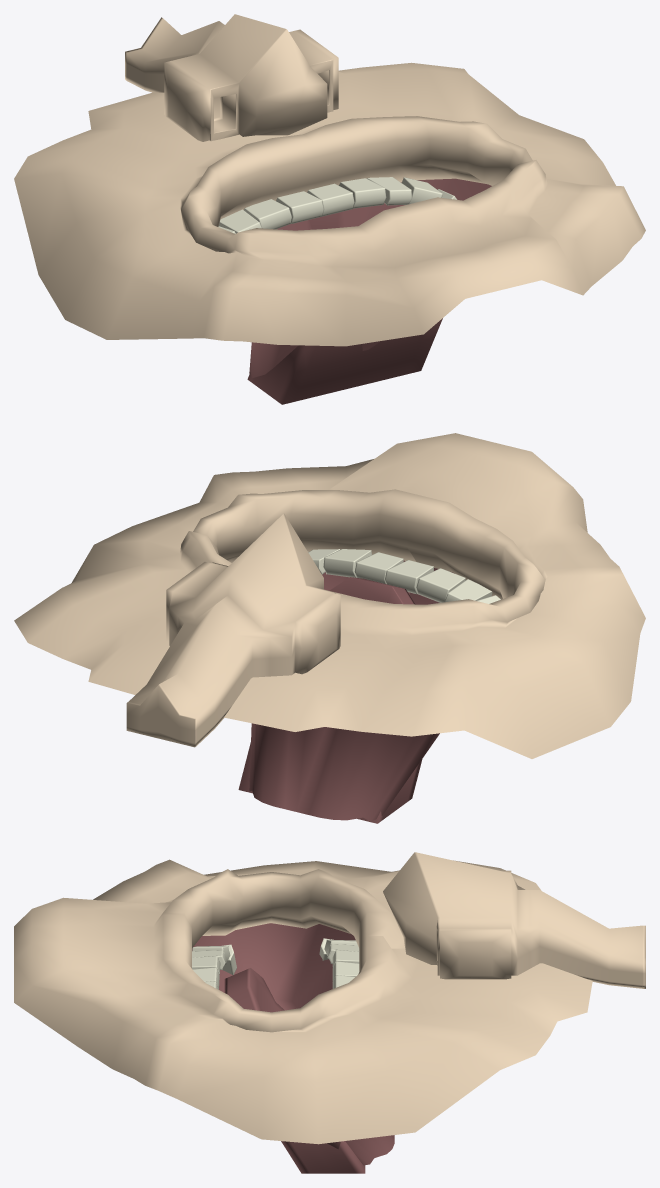
File: mouthQuick.fbx
3 renders of one model, top to bottom at view 1: azimuth 30°, elevation 25°; view 2: azimuth 150°, elevation 25°; view 3: azimuth 270°, elevation 25°, orthographic. The views are drawn at different scales.
Parts seen in each view (by area): view 1: polySurface3; view 2: polySurface3; view 3: polySurface3.
Part boxes in pixels (x1,y1,x2,y2): polySurface3: (14, 14, 645, 404); polySurface3: (14, 433, 645, 823); polySurface3: (14, 852, 645, 1173).
Bounding box in the file's own units: 20.9 × 11.48 × 22.79.
